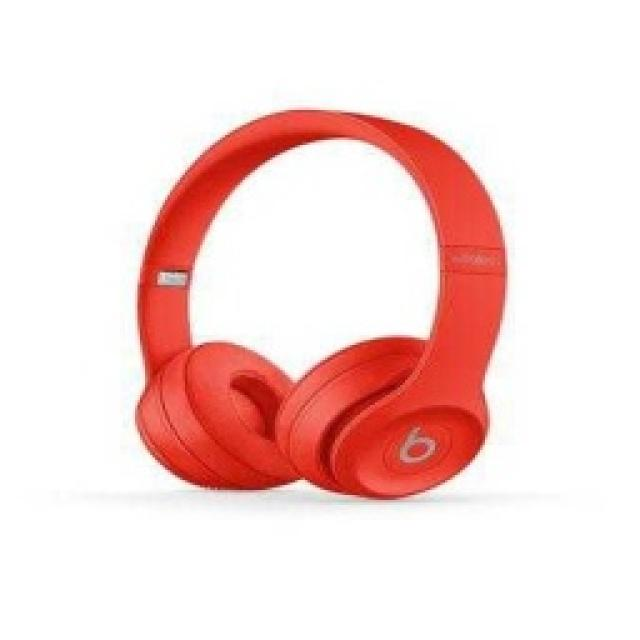headphones: (132, 105, 508, 497)
